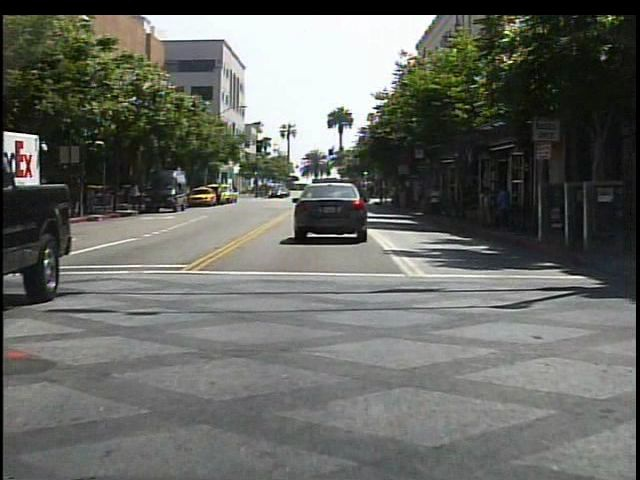person: (427, 182, 446, 220)
